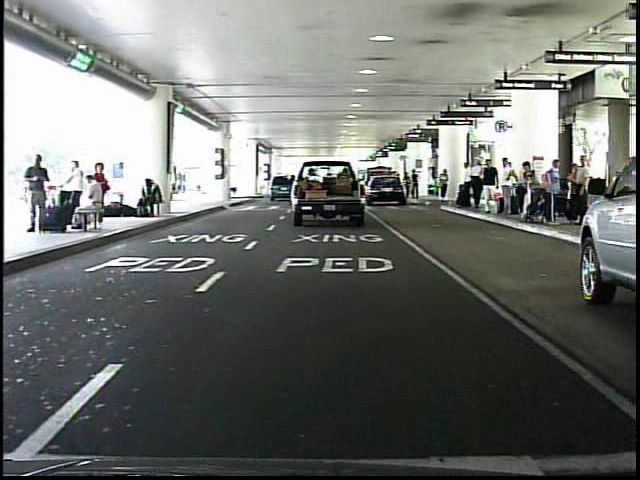person: (26, 152, 56, 238), (477, 156, 502, 224), (498, 157, 518, 220), (457, 156, 478, 212), (437, 166, 453, 205), (402, 170, 413, 202), (411, 169, 421, 204)
